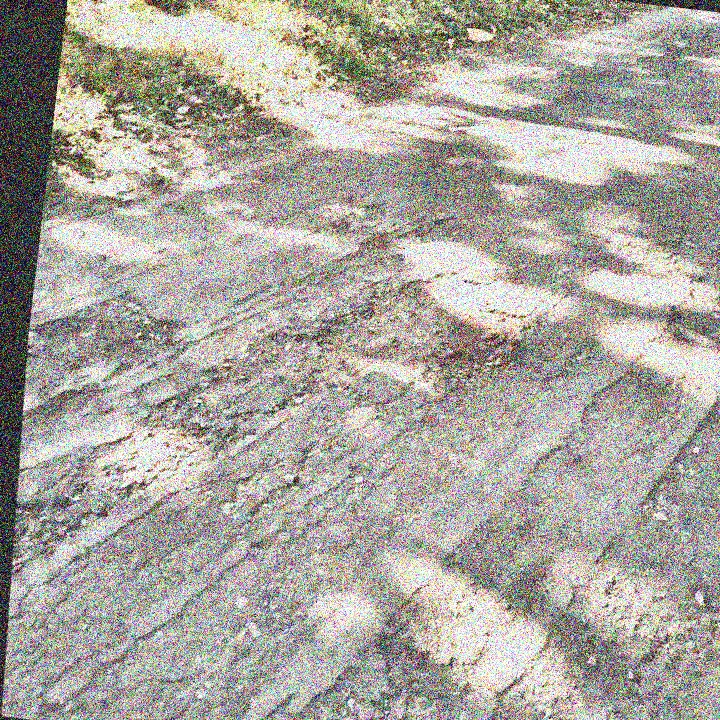pothole: (292, 249, 535, 411), (25, 279, 190, 387)
